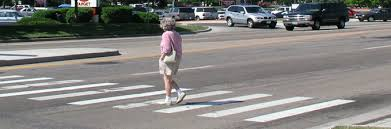pedestrian: (148, 12, 192, 110)
